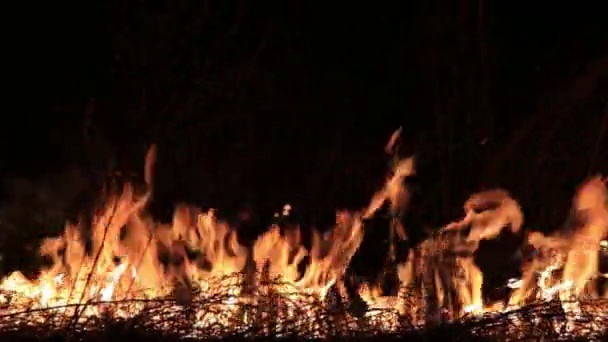fire: (1, 189, 245, 333), (362, 194, 521, 331), (502, 179, 608, 338), (247, 208, 363, 322)
